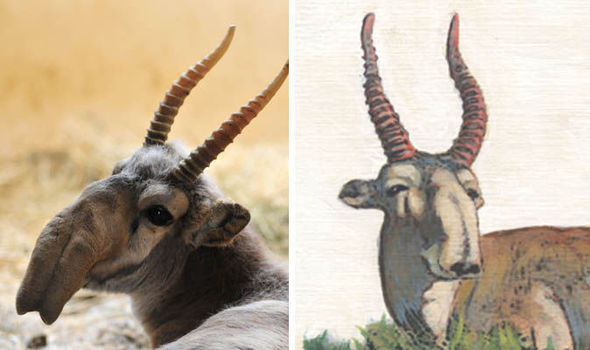saiga: (15, 24, 288, 350), (335, 12, 590, 350)
